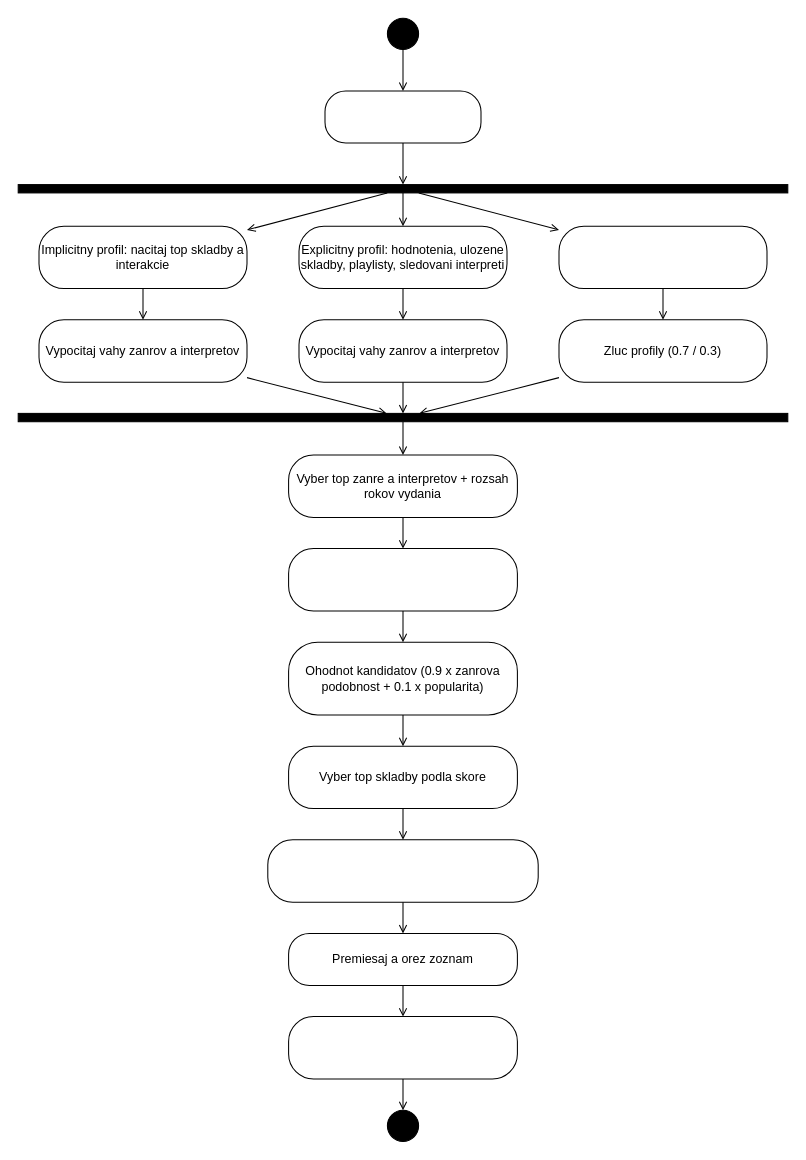
This 806x1160 diagram has some shape labels left out. The shapes that lost their labels are listed below. From the top down, each one's centre as x and y in pixels, then its label:
At pixel 402 116: "Overenie Spotify tokenu".
At pixel 662 257: "Hybridny profil: zostav explicitny a implicitny profil".
At pixel 402 579: "Nacitaj kandidatov z popularnych playlistov".
At pixel 402 870: "Dopln skladby zo zanrovych playlistov a od oblubenych interpretov".
At pixel 402 1047: "Vrat klientovi tri zoznamy odporucani".
